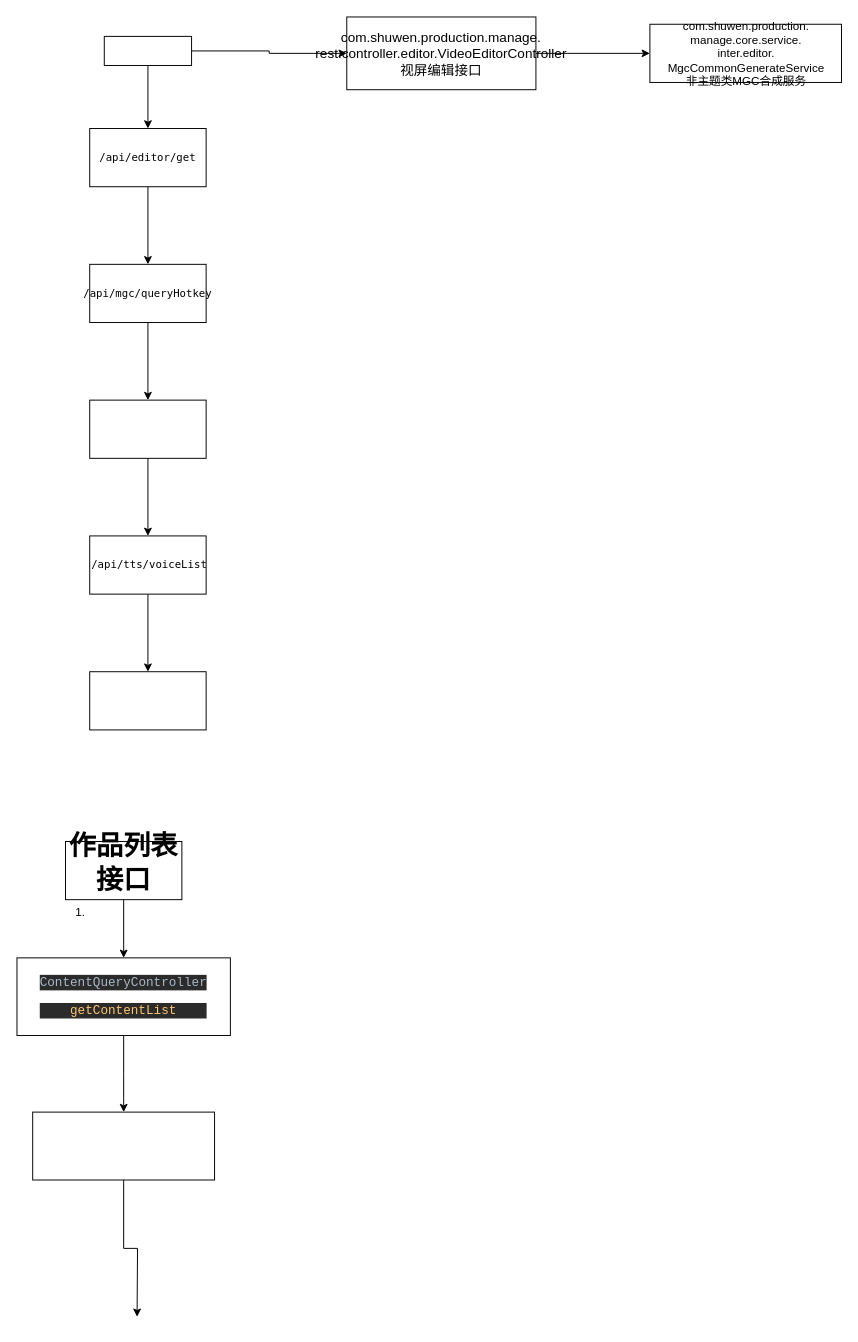
The diagram is 858 pixels wide and 1342 high, and some of its shapes have lost their labels. The shapes that lost their labels are listed below. From the top down, each one's box as (x1, y1, x2, y2) in pixels, then its label:
(103, 35, 192, 65): 创建作品
(89, 399, 206, 458): /api/member/org/setting/list
(89, 671, 206, 730): /api/editor/generate/get
(32, 1111, 215, 1180): getContentListByPage
